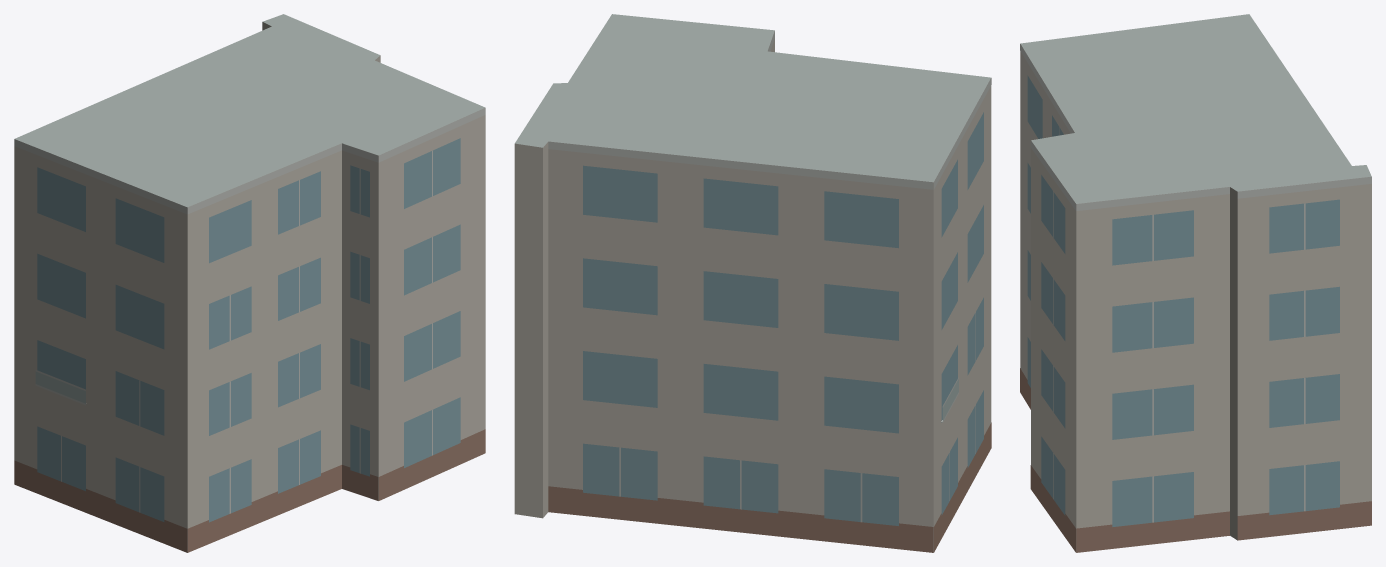
The model's file is survey-upis-32852298.glb.
3 views of the same model, side by side, from view 1: azimuth 30°, elevation 25°; view 2: azimuth 150°, elevation 25°; view 3: azimuth 270°, elevation 25° (orthographic). The views are drawn at different scales.
Parts seen in each view (by area): view 1: survey-upis-32852298.tmp; view 2: survey-upis-32852298.tmp; view 3: survey-upis-32852298.tmp.
Boxes of the visible parts, left/top/right/bottom form: survey-upis-32852298.tmp: left=14, top=14, right=485, bottom=552; survey-upis-32852298.tmp: left=514, top=14, right=991, bottom=552; survey-upis-32852298.tmp: left=1020, top=14, right=1371, bottom=552.
Bounding box in the file's own units: 13.91 × 11.9 × 10.88.
